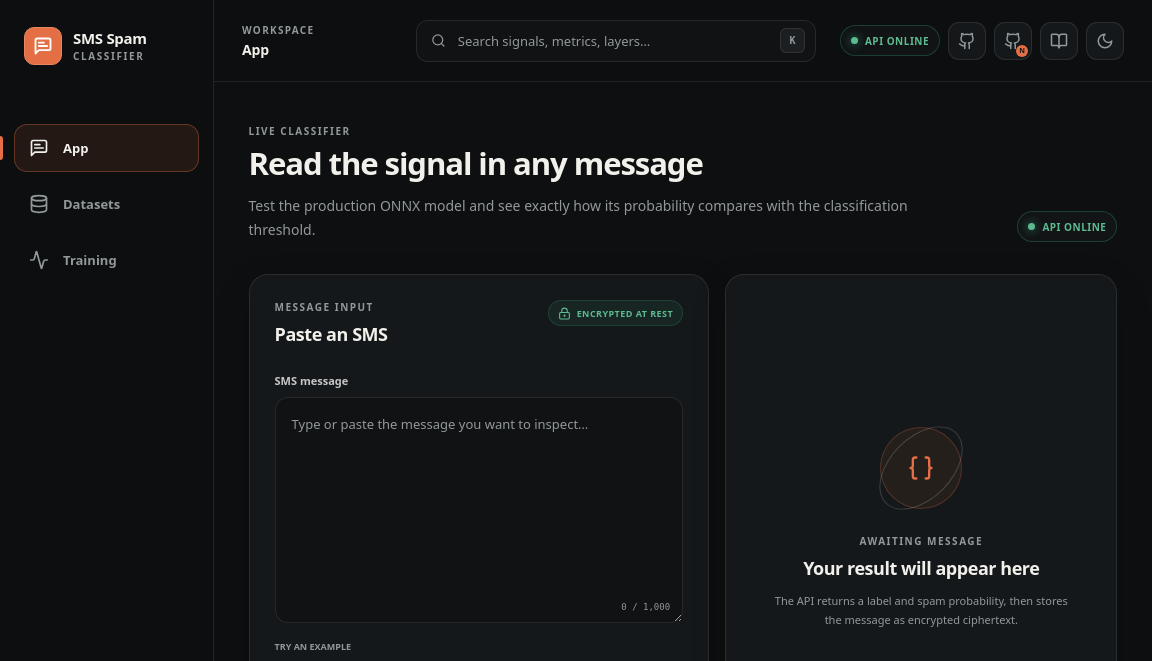
Test: prediction workflow › shows an API error without losing the message
Type "Please analyze this message" into the text box labelled "SMS message" at (479, 510), box [274,397,683,623]
(page scrolled)
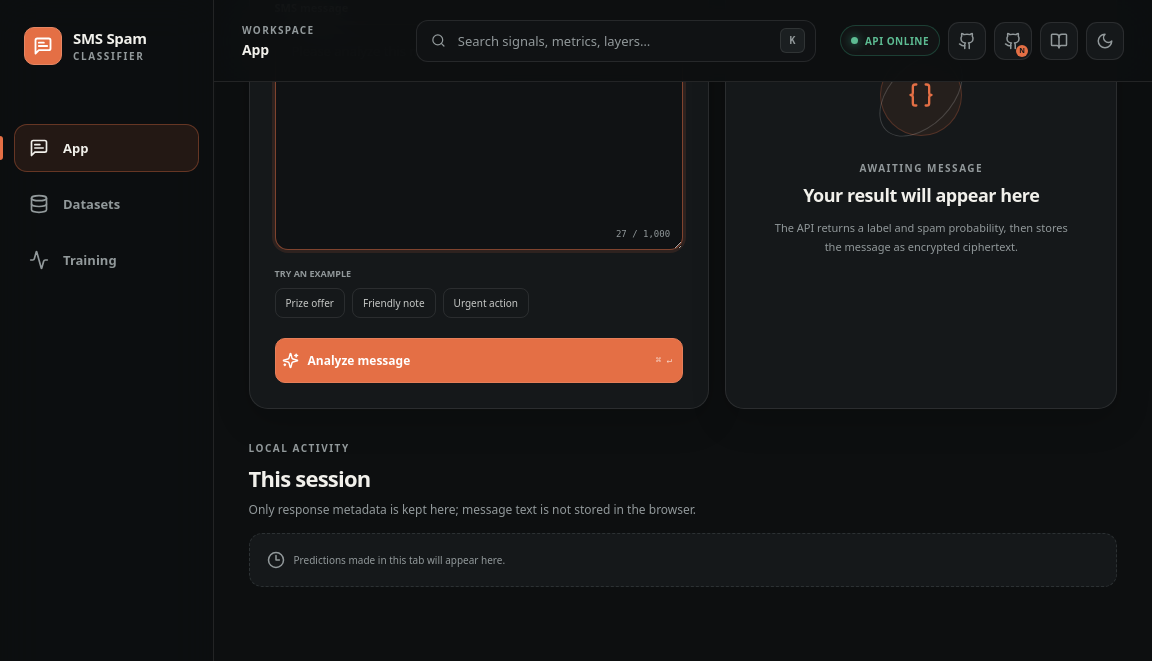
Click the button "Analyze message ⌘ ↵" at (359, 360), box [274,338,683,383]
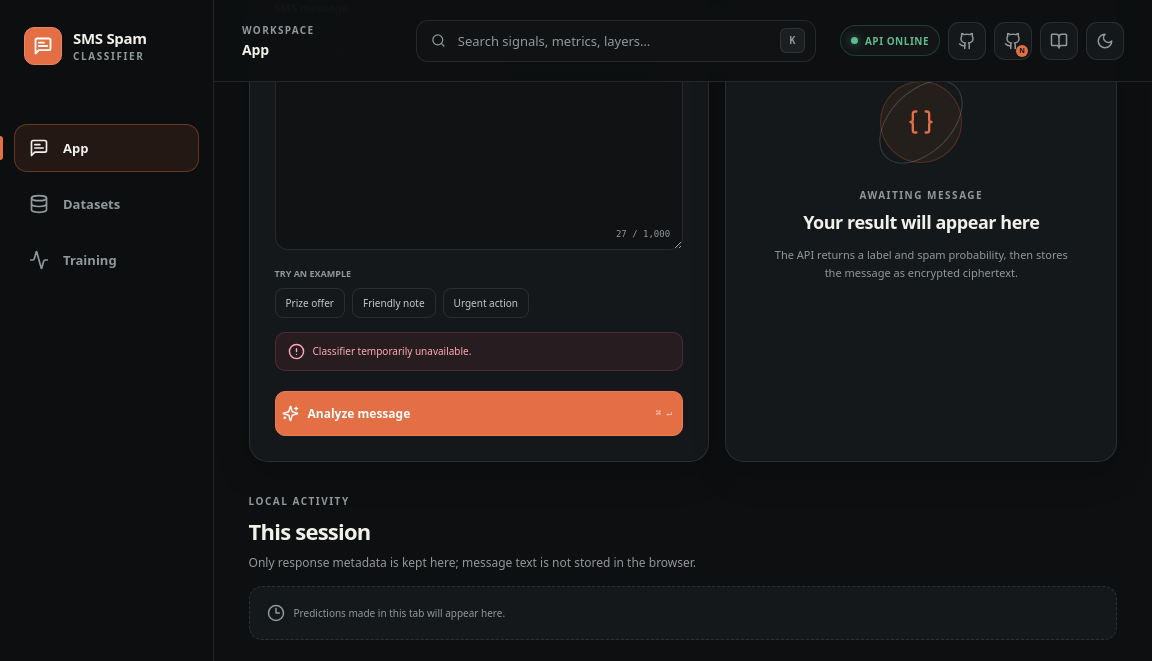
expect the message reads "Classifier temporarily unavailable.": met, box [312,344,471,358]
